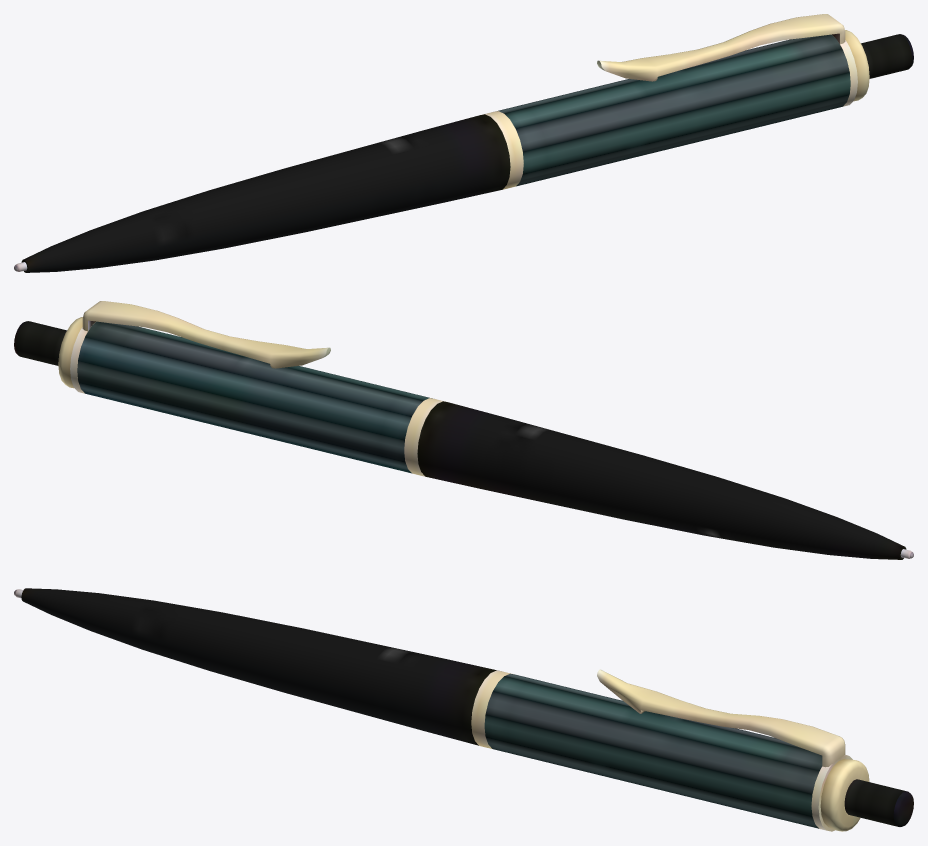
Rendered from marker.glb.
3 renders of one model, top to bottom at view 1: azimuth 30°, elevation 25°; view 2: azimuth 150°, elevation 25°; view 3: azimuth 330°, elevation 25°, orthographic.
Visible parts, largest first — view 1: stationery_supplies_pen_fancy; view 2: stationery_supplies_pen_fancy; view 3: stationery_supplies_pen_fancy.
Boxes of the visible parts, box(x1,y1,x2,y2) form: stationery_supplies_pen_fancy: box(14, 14, 913, 272); stationery_supplies_pen_fancy: box(14, 301, 913, 559); stationery_supplies_pen_fancy: box(14, 588, 913, 831).
Bounding box in the file's own units: 0.1313 × 0.0142 × 0.01.
1 material, 1 textured.
